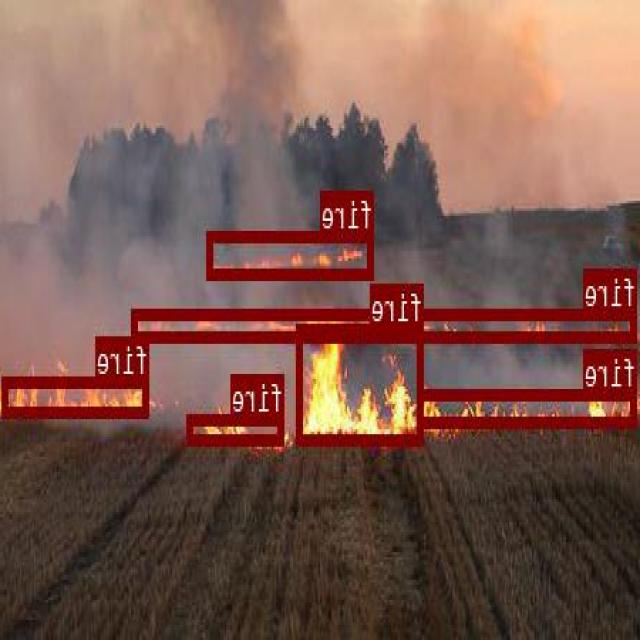fire: (133, 308, 639, 339), (298, 322, 424, 442), (418, 388, 639, 426), (208, 229, 374, 277), (3, 374, 150, 414), (189, 413, 285, 444)
